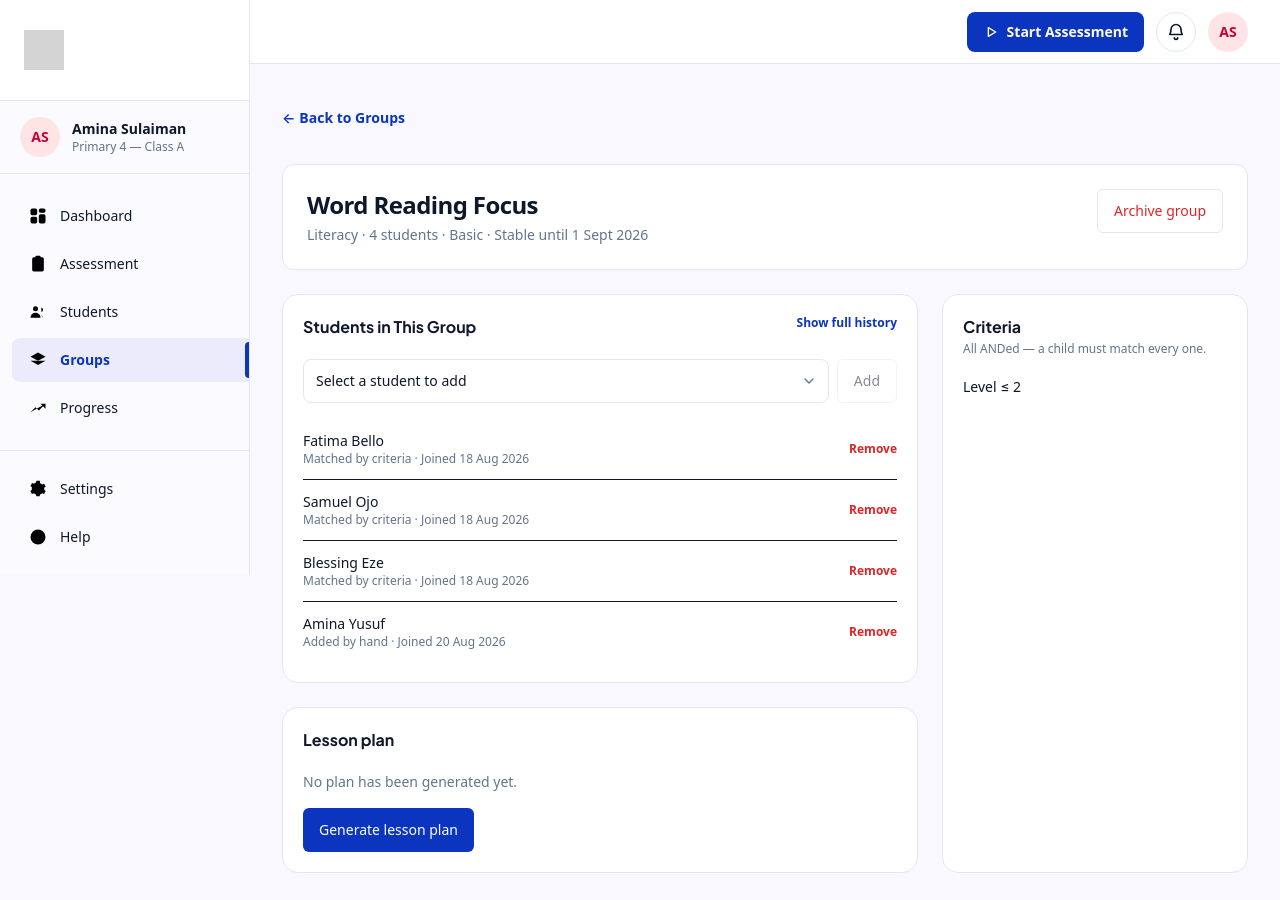
Scenario: GroupDetailPage › removes a current member
Check: the heading "Word Reading Focus" is shown, box 307,189 -> 538,221
Click the button "Remove" in the row of "Amina Yusuf" at (873, 632), box 849,624 -> 897,640
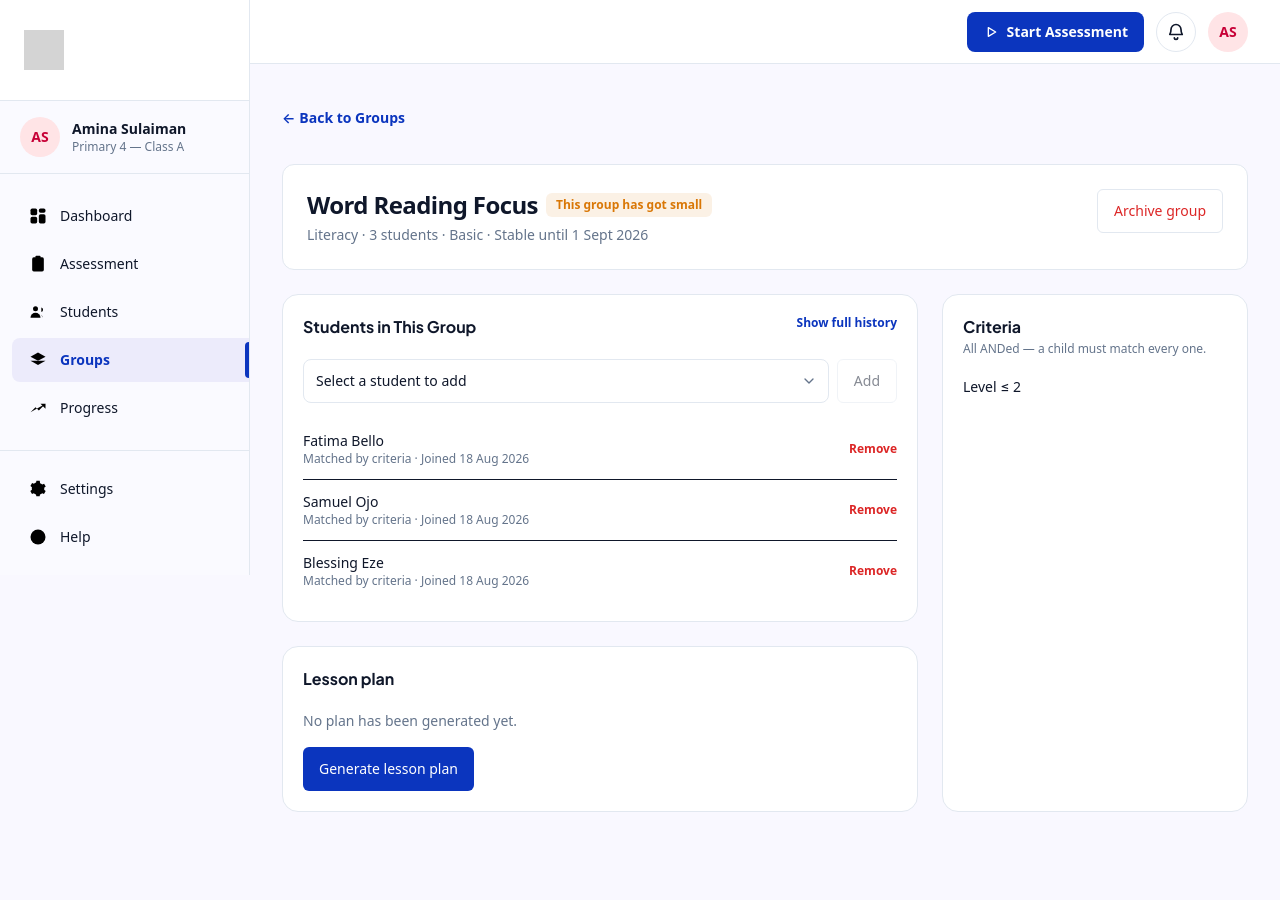
Check: the text "Amina Yusuf" is gone
